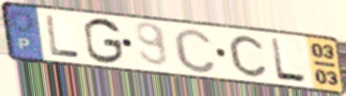9: (134, 21, 171, 72)
C: (171, 26, 219, 75), (227, 34, 269, 79)
G: (81, 16, 126, 65)
L: (268, 36, 310, 85), (44, 13, 82, 60)
